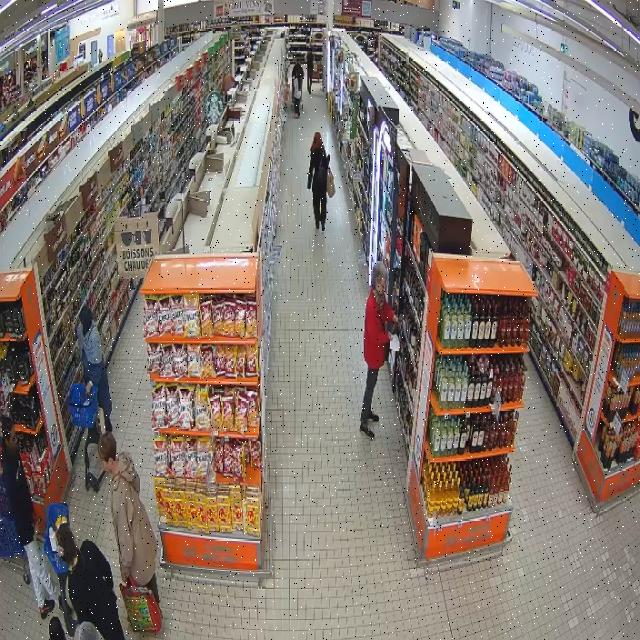article: (389, 322, 398, 334)
bags: (120, 578, 161, 633), (327, 168, 335, 197), (293, 78, 301, 98)
hands: (34, 518, 42, 535), (121, 568, 129, 584), (86, 382, 92, 396), (393, 315, 399, 324)
person: (2, 419, 58, 618), (99, 434, 159, 603), (57, 524, 125, 639), (360, 262, 397, 438), (77, 306, 112, 432), (308, 133, 329, 231), (292, 61, 304, 118), (73, 622, 103, 639), (307, 44, 314, 93)
